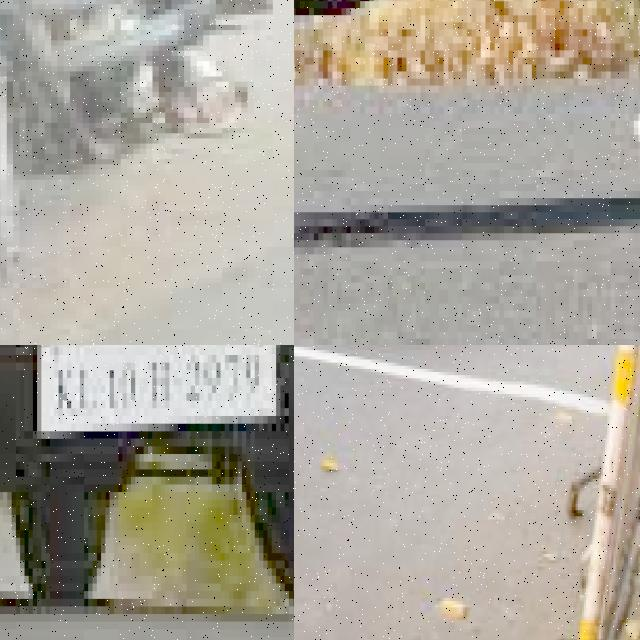bike: (0, 0, 294, 345), (294, 0, 541, 268)
car: (0, 345, 294, 629)
